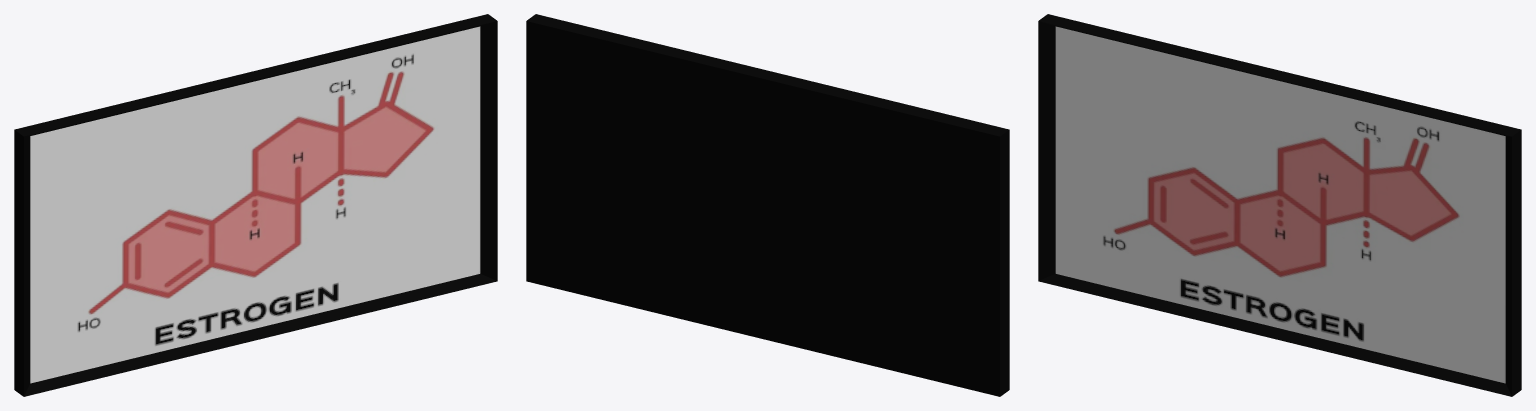
Rendered from board.fbx.
The picture shows the model from 3 angles, left to right: view 1: azimuth 30°, elevation 25°; view 2: azimuth 150°, elevation 25°; view 3: azimuth 330°, elevation 25°; orthographic projection.
Visible parts, largest first — view 1: board1; view 2: board1; view 3: board1.
Part boxes in pixels (box(x1,y1,x2,y2)): board1: box(14, 14, 497, 396); board1: box(526, 14, 1009, 396); board1: box(1038, 14, 1521, 396).
Bounding box in the file's own units: 133 × 69.64 × 4.64.
Materials: 2 (1 with a texture image).
